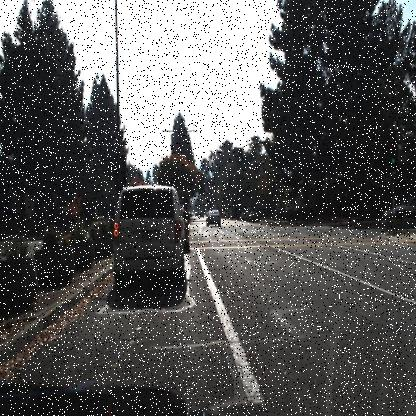car: (110, 180, 188, 288), (394, 194, 416, 223), (203, 203, 223, 231), (204, 207, 224, 229), (380, 201, 397, 222)
trafficLight-Green: (389, 141, 397, 169), (236, 150, 245, 171), (237, 146, 242, 164), (278, 180, 283, 194)
